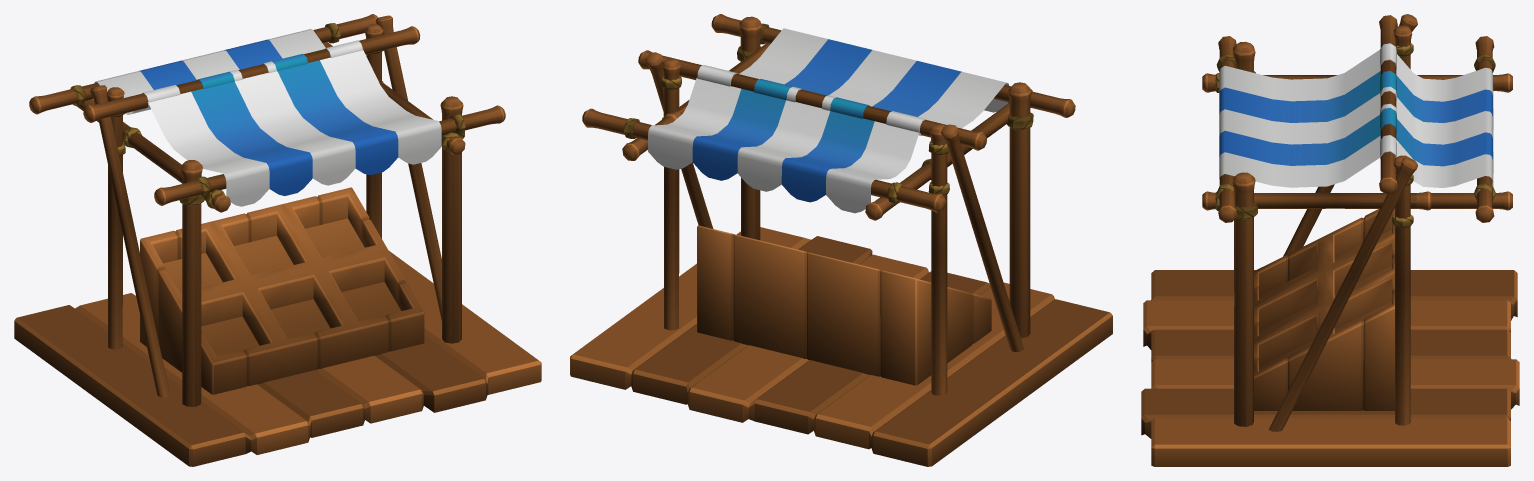
File: Stall-2-1.fbx
3 views of the same model, side by side, from view 1: azimuth 30°, elevation 25°; view 2: azimuth 150°, elevation 25°; view 3: azimuth 270°, elevation 25° (orthographic). The views are drawn at different scales.
Parts seen in each view (by area): view 1: Stall-2-1; view 2: Stall-2-1; view 3: Stall-2-1.
Part boxes in pixels (x1,y1,x2,y2): Stall-2-1: [14, 14, 541, 466]; Stall-2-1: [570, 14, 1112, 466]; Stall-2-1: [1141, 14, 1519, 466].
Bounding box in the file's own units: 555 × 429 × 501.
